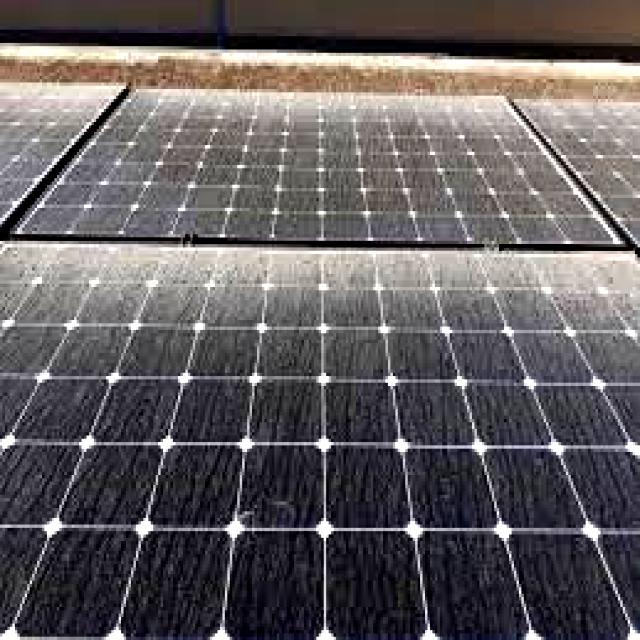dust: (19, 374, 150, 511), (176, 378, 302, 513), (327, 384, 458, 512), (496, 382, 594, 530), (302, 126, 438, 226), (464, 164, 606, 242), (170, 308, 331, 372), (98, 100, 170, 232), (530, 253, 608, 371), (144, 528, 223, 638), (196, 110, 269, 228), (536, 535, 618, 640), (338, 534, 420, 636), (439, 524, 506, 640), (51, 526, 119, 640), (240, 534, 314, 638), (374, 308, 496, 370), (157, 248, 339, 286), (1, 80, 72, 162), (8, 254, 142, 292), (348, 254, 490, 286), (560, 98, 638, 154), (452, 94, 510, 146)
